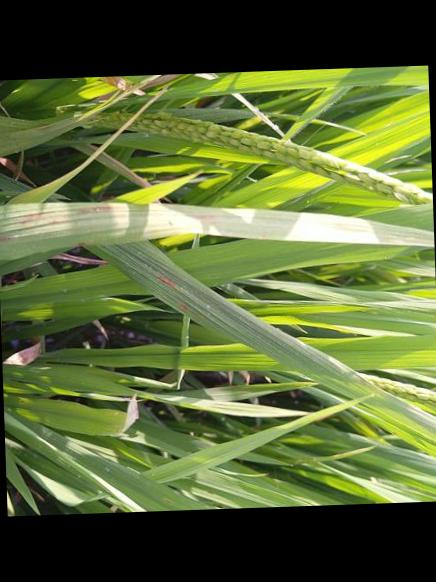Leaf Streak: (89, 243, 284, 351), (0, 202, 435, 247), (2, 338, 43, 366)
